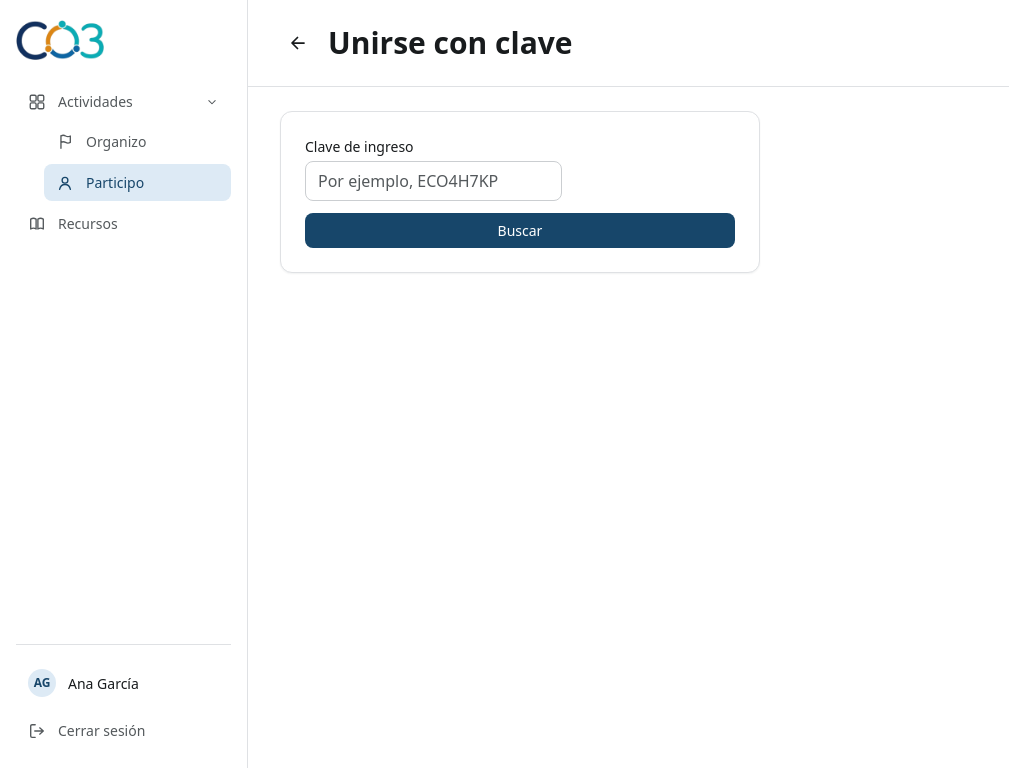
it: PantallaUnirseConClave › bloquea la búsqueda si la clave está vacía
This screenshot has width=1024, height=768.
Click the button "Buscar" at point(520, 230), box [305,212,735,248]
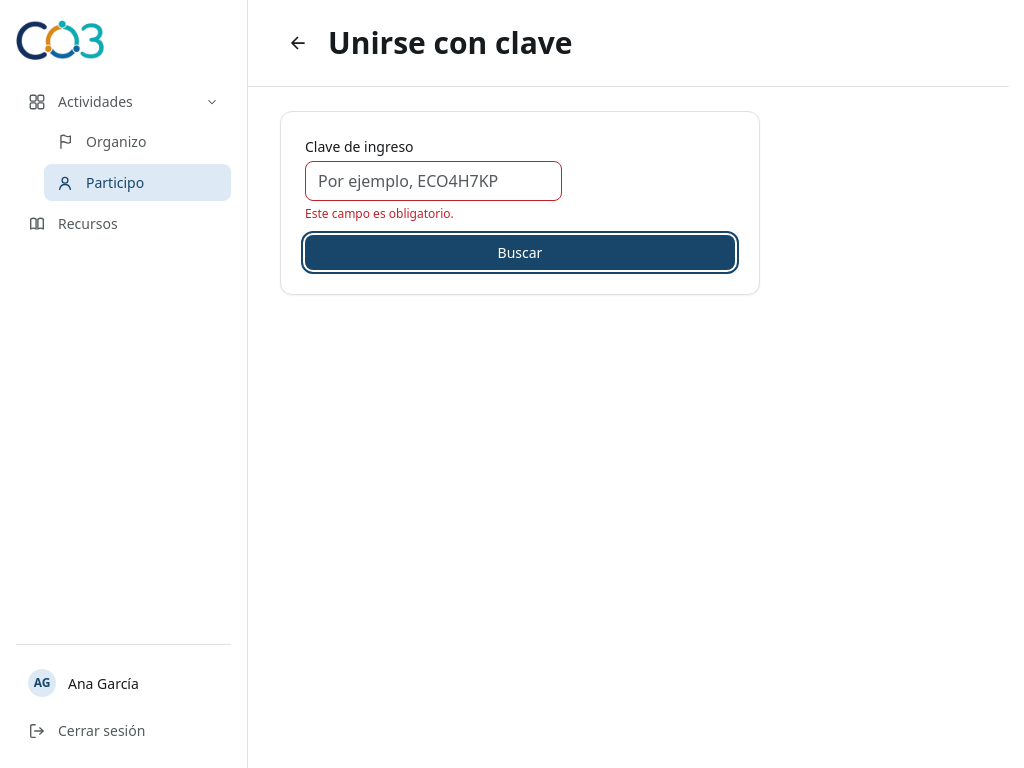
Expected: the text "Este campo es obligatorio." is shown, [305,204,454,222]
